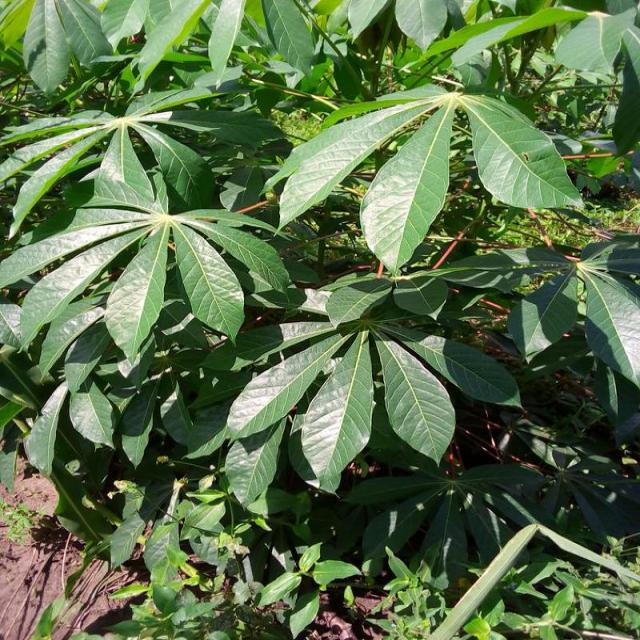cassava leaf: (264, 80, 584, 274), (359, 96, 457, 274)
